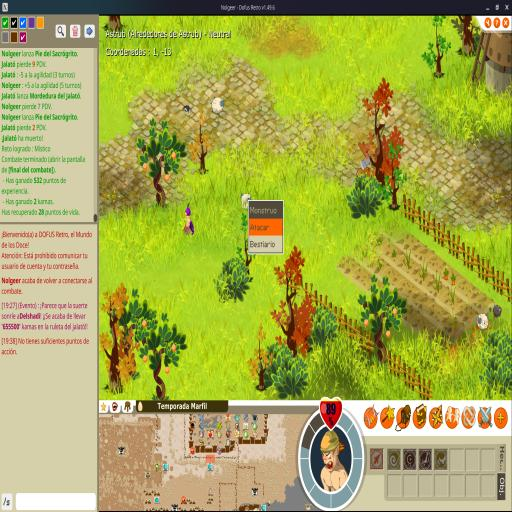Enemigos: (211, 96, 224, 116), (476, 313, 489, 331), (240, 192, 252, 211), (490, 304, 502, 320), (182, 104, 192, 116)
